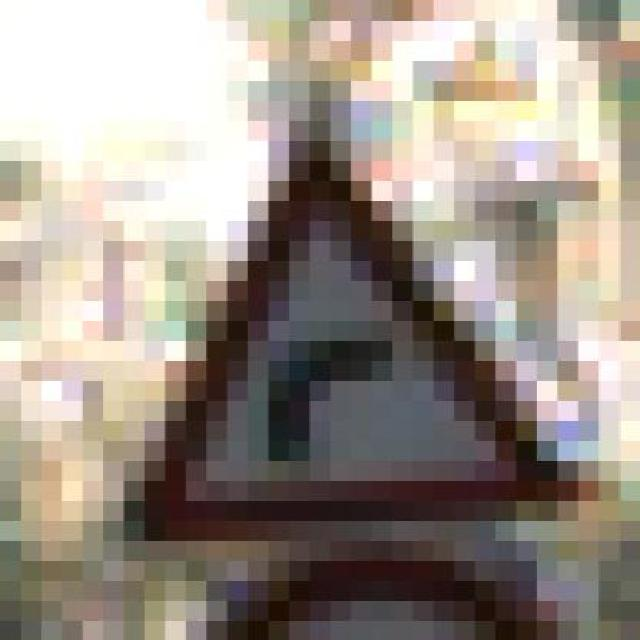Dangerous Rright Curve Ahead: (82, 120, 578, 540)
